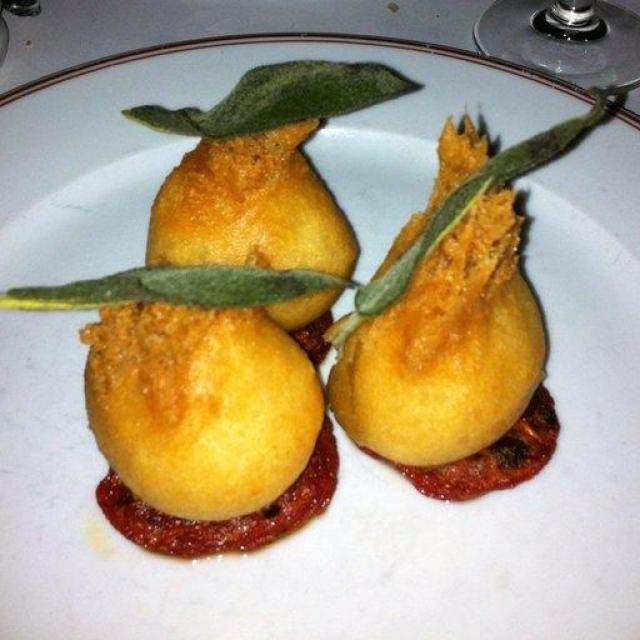food_waste: (2, 36, 640, 594)
